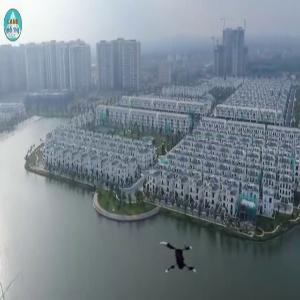drone: (149, 234, 205, 290)
